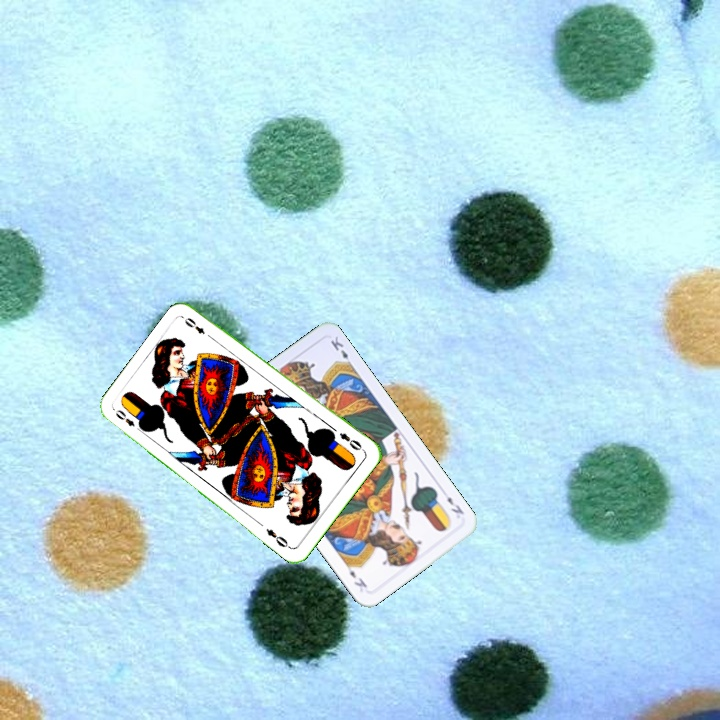EK: (443, 492, 467, 517)
EO: (111, 405, 146, 436), (335, 429, 367, 454)
